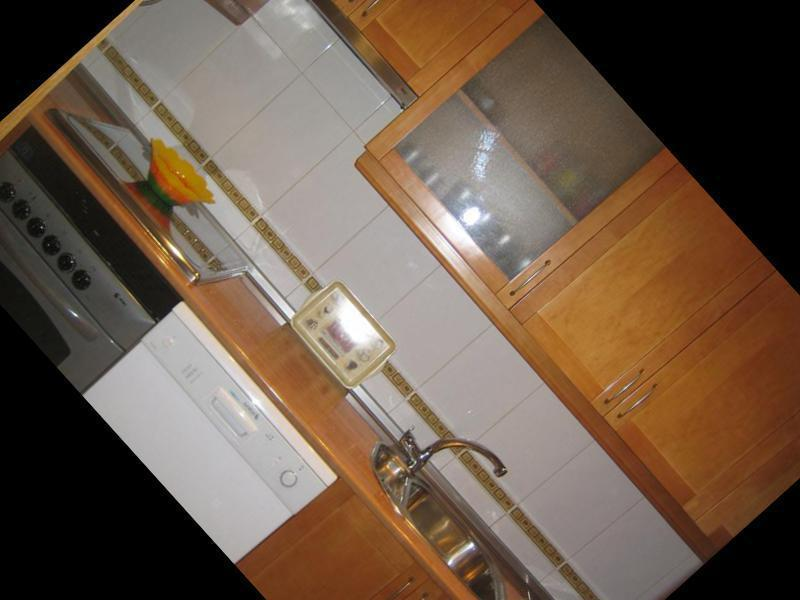Lavaplatos: (342, 375, 586, 600)
